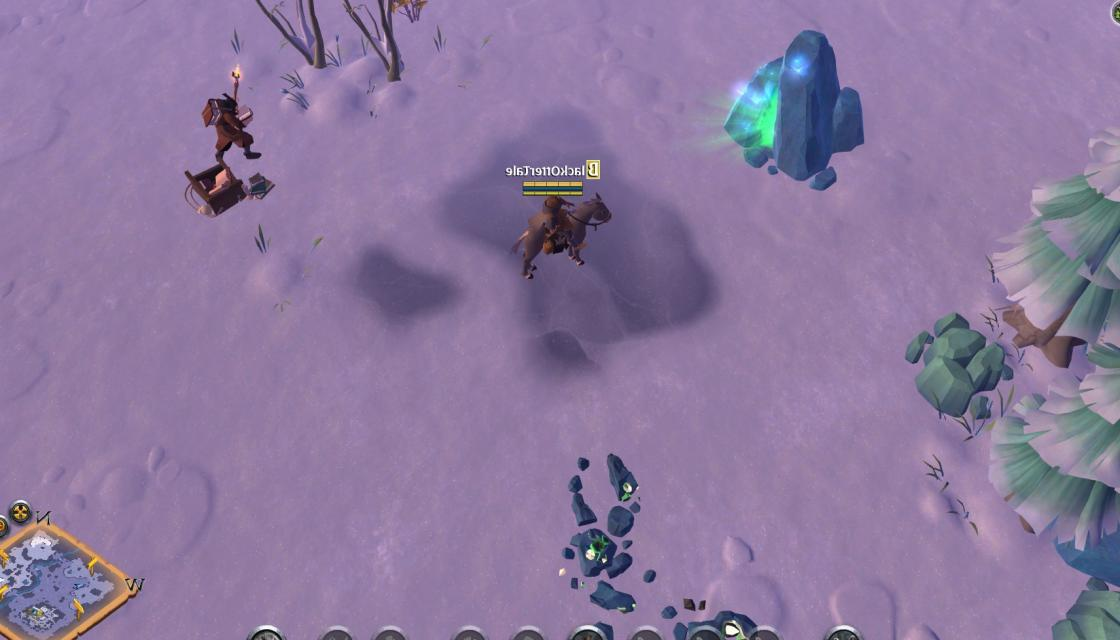sandstone: (908, 308, 1012, 420), (1056, 588, 1120, 640)
